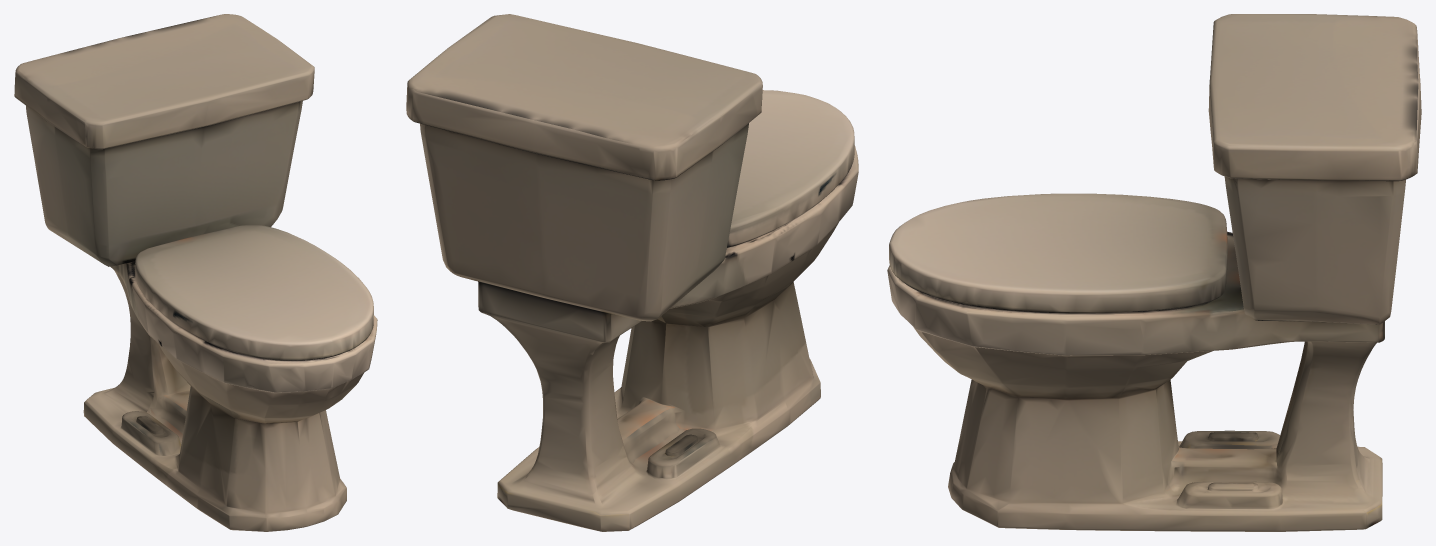
File: toilet.fbx
3 renders of one model, left to right at view 1: azimuth 30°, elevation 25°; view 2: azimuth 150°, elevation 25°; view 3: azimuth 270°, elevation 25°, orthographic. The views are drawn at different scales.
Visible parts, largest first — view 1: node_0.001; view 2: node_0.001; view 3: node_0.001.
Boxes of the visible parts, bbox=[...] form: node_0.001: bbox=[14, 14, 377, 531]; node_0.001: bbox=[406, 14, 858, 531]; node_0.001: bbox=[887, 14, 1421, 531].
Bounding box in the file's own units: 0.249 × 0.361 × 0.4154.
1 material, 1 textured.
